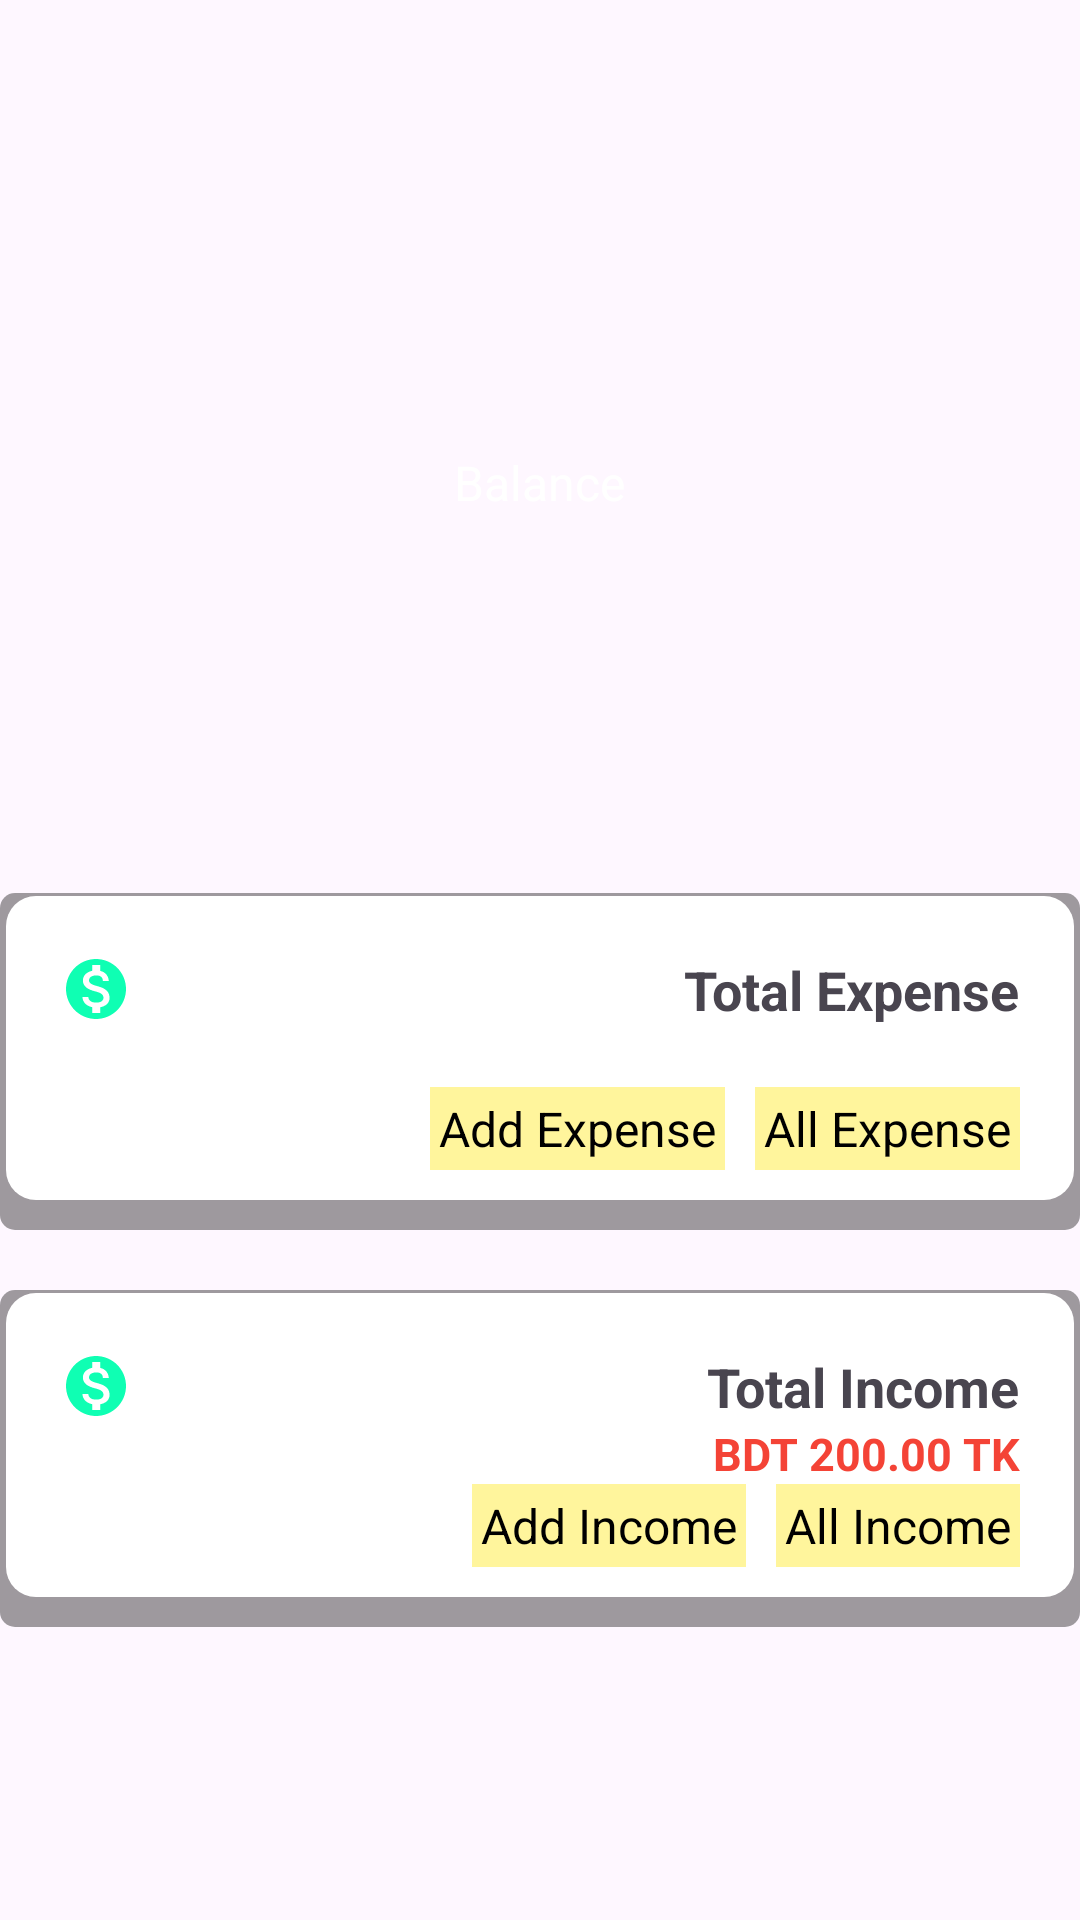

Where to tap for icons on this 1080w x 1920h app screen, as point (x, y):
monetization on: point (96, 989), point (96, 1386)
